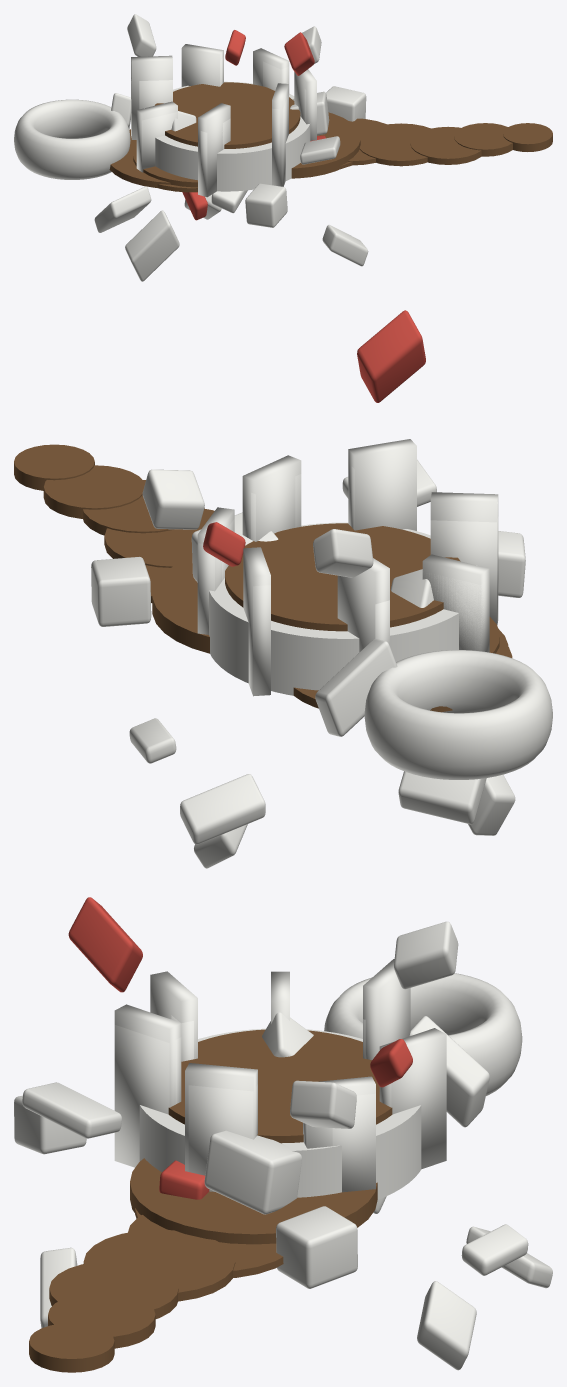
The model's file is mug_dead.glb.
3 renders of one model, top to bottom at view 1: azimuth 30°, elevation 25°; view 2: azimuth 150°, elevation 25°; view 3: azimuth 270°, elevation 25°, orthographic. The views are drawn at different scales.
Parts seen in each view (by area): view 1: Torus.001, Cylinder.029, Cylinder.028, Cylinder.024, Cube.059, Cylinder.025, Cylinder.021, Cube.047, Cube.037, Cube.051, Cylinder.026, Cube.038 (+25 smaller); view 2: Torus.001, Cylinder.029, Cylinder.028, Cube.048, Cube.039, Cube.068, Cube.052, Cube.060, Cube.053, Cube.049, Cylinder.026, Cylinder.021 (+22 smaller); view 3: Cylinder.029, Torus.001, Cylinder.028, Cylinder.021, Cube.064, Cube.041, Cylinder.024, Cube.060, Cube.037, Cylinder.025, Cube.042, Cylinder.026 (+22 smaller).
Boxes of the visible parts, x1,y1,x2,y2 form: Torus.001: (14, 99, 130, 179); Cylinder.029: (155, 82, 300, 148); Cylinder.028: (144, 81, 310, 191); Cylinder.024: (359, 123, 430, 166); Cube.059: (125, 210, 179, 281); Cylinder.025: (410, 126, 481, 164); Cylinder.021: (291, 112, 360, 178); Cube.047: (198, 103, 230, 196); Cube.037: (181, 44, 223, 86); Cube.051: (245, 183, 287, 227); Cylinder.026: (454, 123, 512, 156); Cube.038: (131, 55, 172, 139); Torus.001: (364, 650, 552, 779); Cylinder.029: (225, 523, 460, 631); Cylinder.028: (209, 522, 477, 695); Cube.048: (348, 439, 416, 530); Cube.039: (422, 554, 489, 652); Cube.068: (357, 310, 425, 402); Cube.052: (315, 639, 397, 736); Cube.060: (91, 556, 151, 626); Cube.053: (180, 774, 265, 844); Cube.049: (242, 455, 301, 541); Cylinder.026: (43, 465, 144, 518); Cylinder.021: (152, 558, 209, 653); Cylinder.029: (168, 1029, 392, 1143); Torus.001: (324, 973, 522, 1095); Cylinder.028: (139, 1028, 421, 1199); Cylinder.021: (130, 1158, 377, 1244); Cube.064: (204, 1130, 301, 1214); Cube.041: (114, 1025, 181, 1167); Cylinder.024: (83, 1229, 235, 1301); Cube.060: (276, 1206, 357, 1288); Cube.037: (379, 1028, 446, 1169); Cylinder.025: (49, 1260, 178, 1318); Cube.042: (188, 1084, 257, 1191); Cylinder.026: (48, 1292, 155, 1348).
Bounding box in the file's own units: 5.3 × 3.21 × 3.41.
